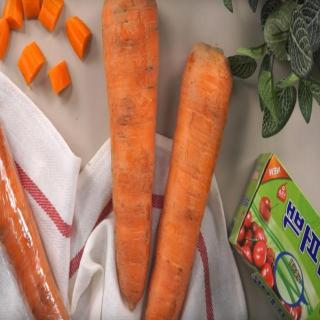carrot: (144, 40, 232, 320), (99, 0, 161, 312), (0, 0, 91, 95)
